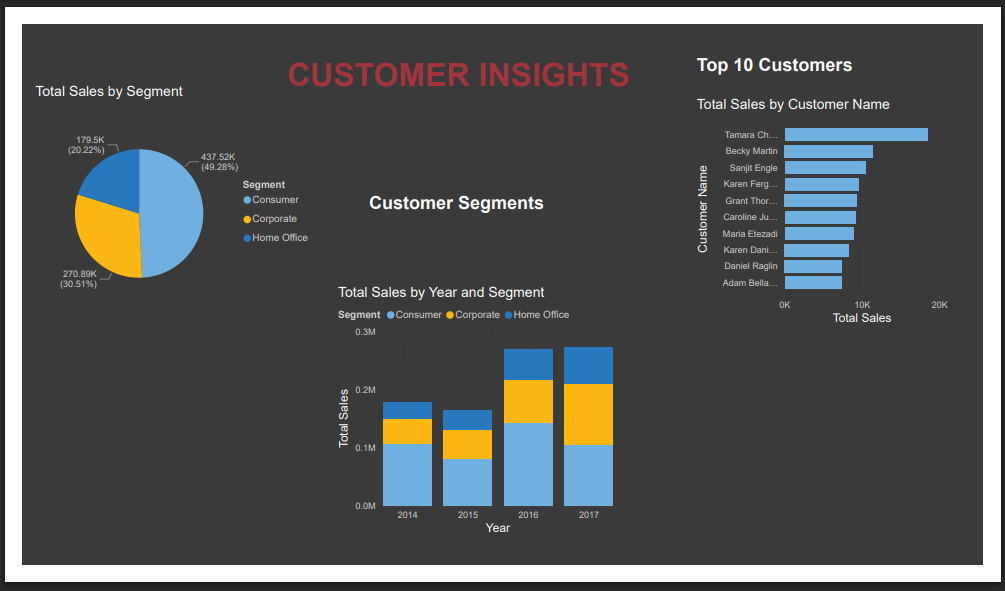

The page's visual inventory and layout, read from the dashboard file:
{"tool":"powerbi","page":{"name":"Page 2","canvas":[1280,720],"ordinal":1},"visuals":[{"type":"pieChart","fields":{"Category":["Sample - Superstore.Segment"],"Y":["Sample - Superstore.Total Sales"]},"box":[13.2,79.4,381.7,325],"z":0},{"type":"clusteredBarChart","fields":{"Y":["Sample - Superstore.Total Sales"],"Category":["Sample - Superstore.Customer Name"]},"box":[893.9,96.4,343.9,308],"z":1000},{"type":"textbox","box":[893.9,35.9,343.9,43.5],"z":2000},{"type":"textbox","box":[395,219.2,368.5,47.2],"z":3000},{"type":"columnChart","fields":{"Category":["Sample - Superstore.Year"],"Series":["Sample - Superstore.Segment"],"Y":["Sample - Superstore.Total Sales"]},"box":[415.8,345.8,376.1,338.3],"z":4000},{"type":"textbox","box":[347.8,39.1,510.9,80.4],"z":5000}]}

Visuals, with their boxes on the page's 1280x720 design canvas (x1, y1, x2, y2). These are canvas units, not pixel positions in the 1005x591 screenshot, which may show the page scaled, cropped or inside an application window:
pieChart - Sample - Superstore.Segment x Sample - Superstore.Total Sales: [x1=13, y1=79, x2=395, y2=404]
clusteredBarChart - Sample - Superstore.Total Sales x Sample - Superstore.Customer Name: [x1=894, y1=96, x2=1238, y2=404]
textbox: [x1=894, y1=36, x2=1238, y2=79]
textbox: [x1=395, y1=219, x2=764, y2=266]
columnChart - Sample - Superstore.Year x Sample - Superstore.Segment: [x1=416, y1=346, x2=792, y2=684]
textbox: [x1=348, y1=39, x2=859, y2=120]
